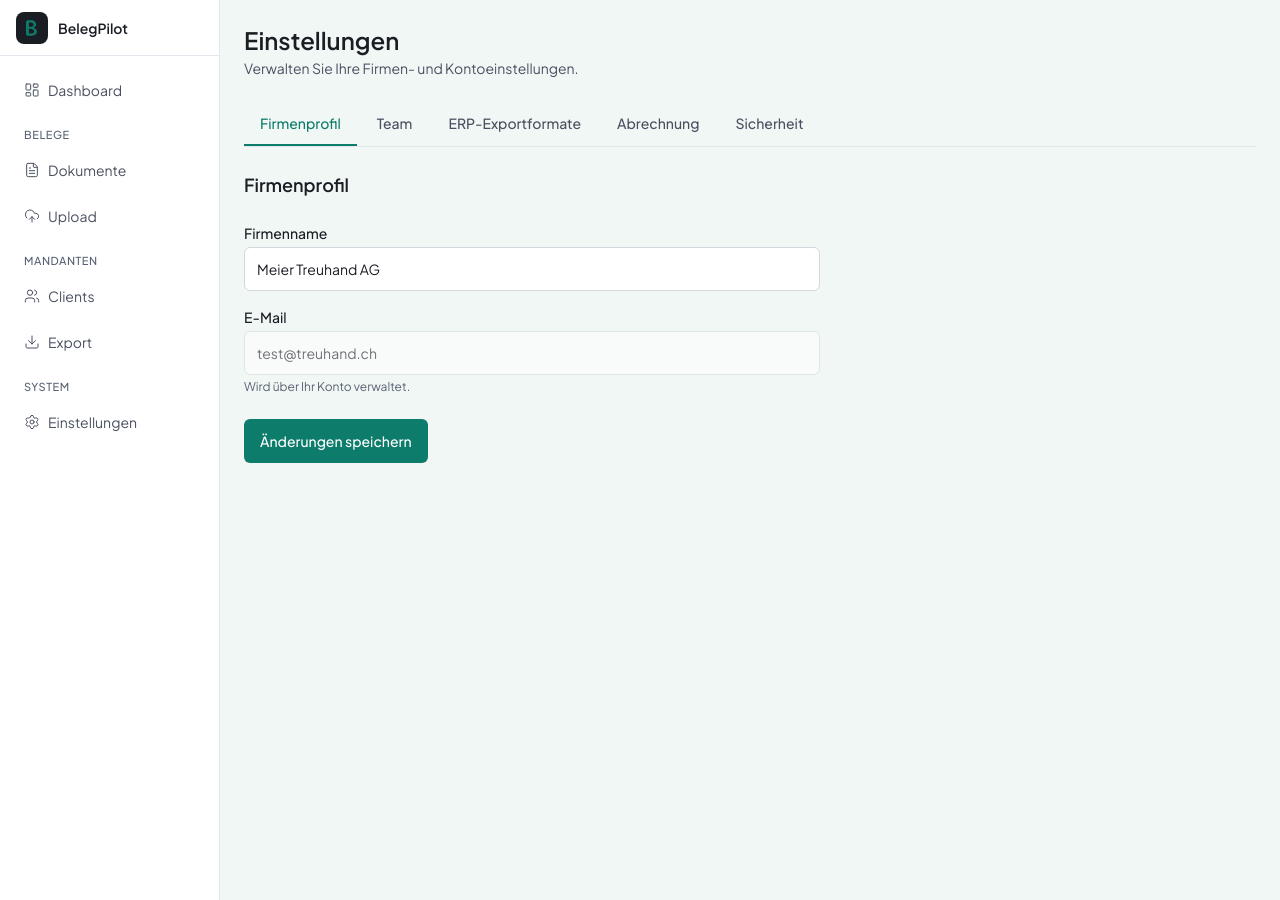
Test case: Settings › switches to ERP tab
Click the tab "ERP-Exportformate" at (515, 124), box [432,102,597,146]
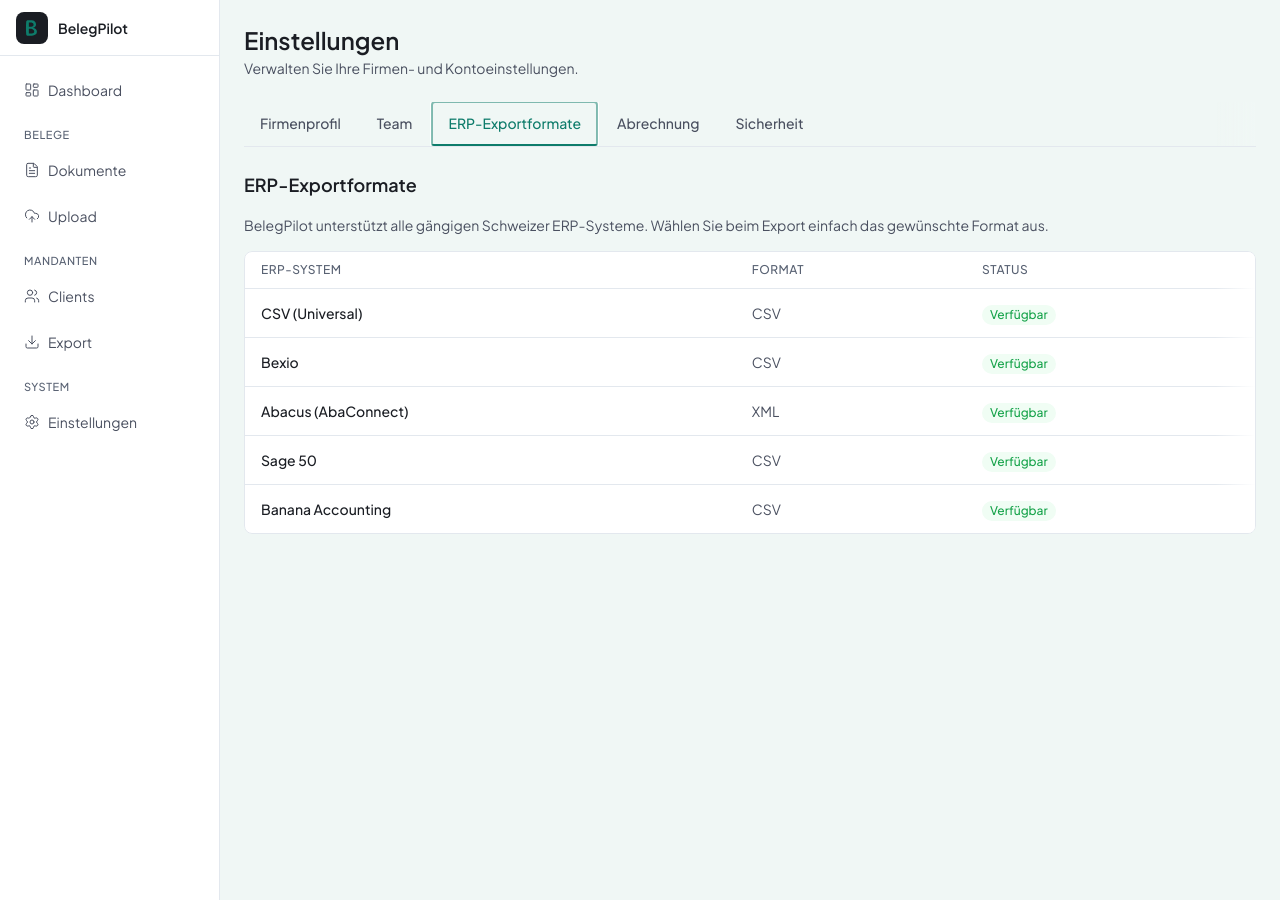
Check: the heading "ERP-Exportformate" is shown, box [244,173,417,196]
Check: the text "CSV (Universal)" is shown, box [245,288,736,338]
